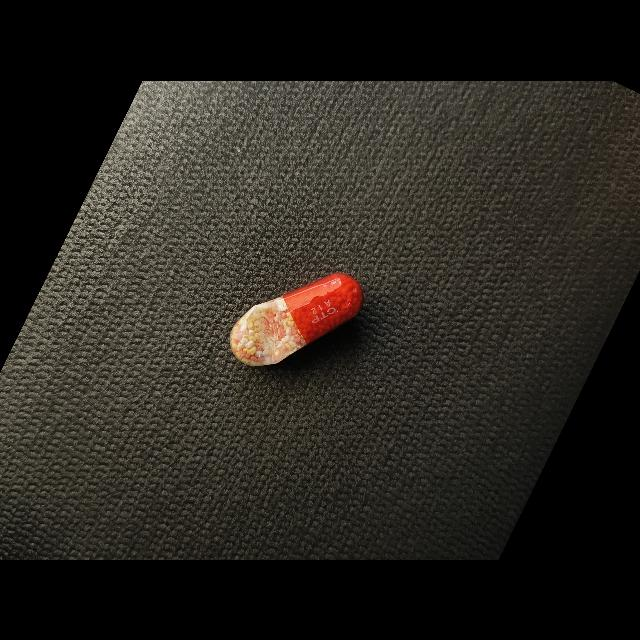Defective Capsule: (230, 272, 364, 365)
